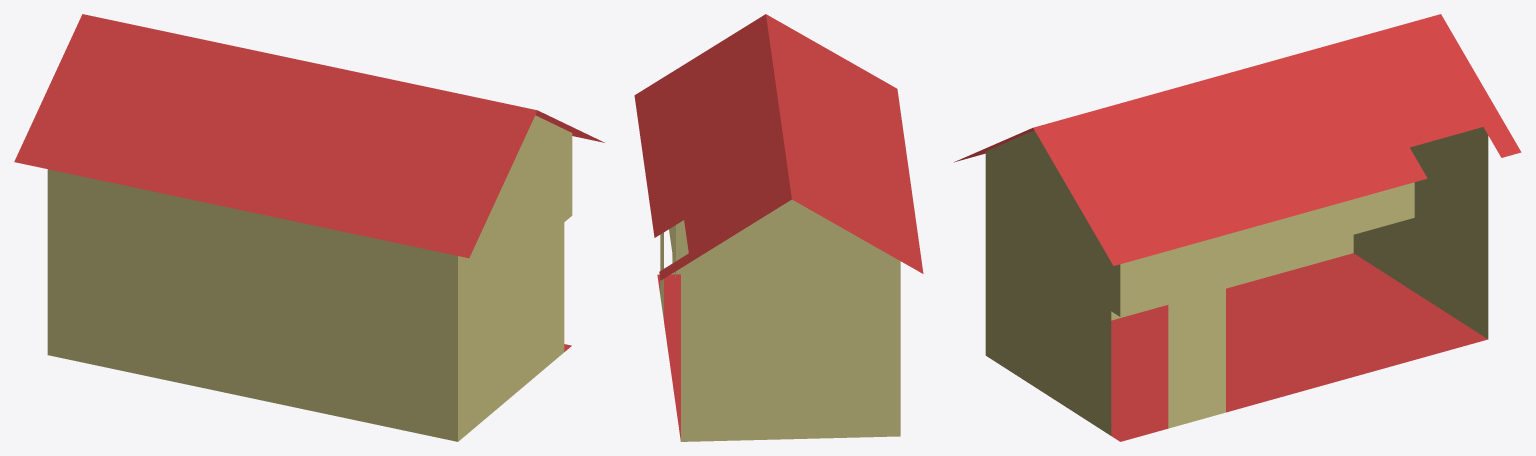
3 renders of one model, left to right at view 1: azimuth 30°, elevation 25°; view 2: azimuth 150°, elevation 25°; view 3: azimuth 270°, elevation 25°, orthographic. The views are drawn at different scales.
Bounding box in the file's own units: 21.35 × 23.66 × 12.69.
